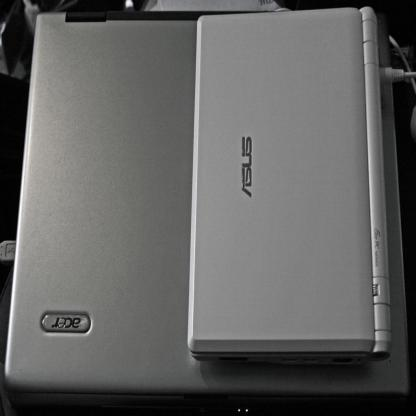board: (7, 13, 413, 404), (190, 5, 390, 358)
